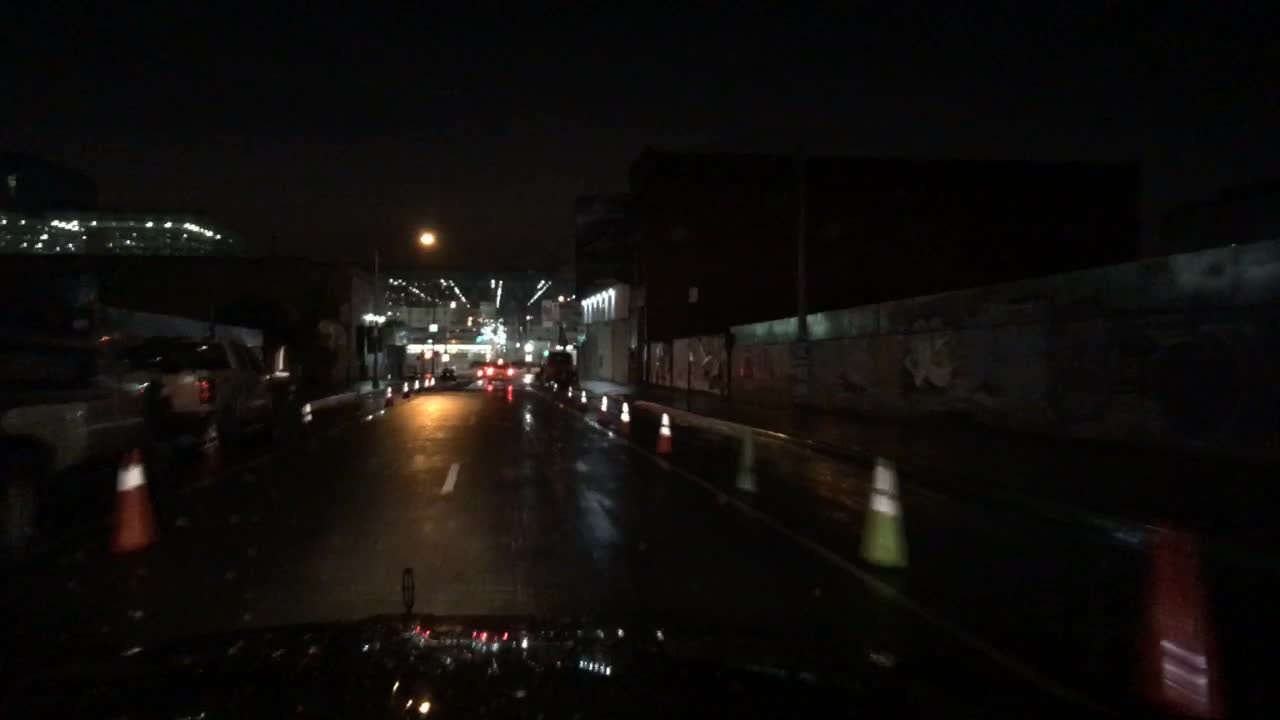bus: (537, 349, 577, 391)
car: (0, 318, 170, 559), (133, 330, 286, 456), (481, 362, 516, 379), (438, 365, 457, 381)
traffic sign: (555, 322, 567, 346)
